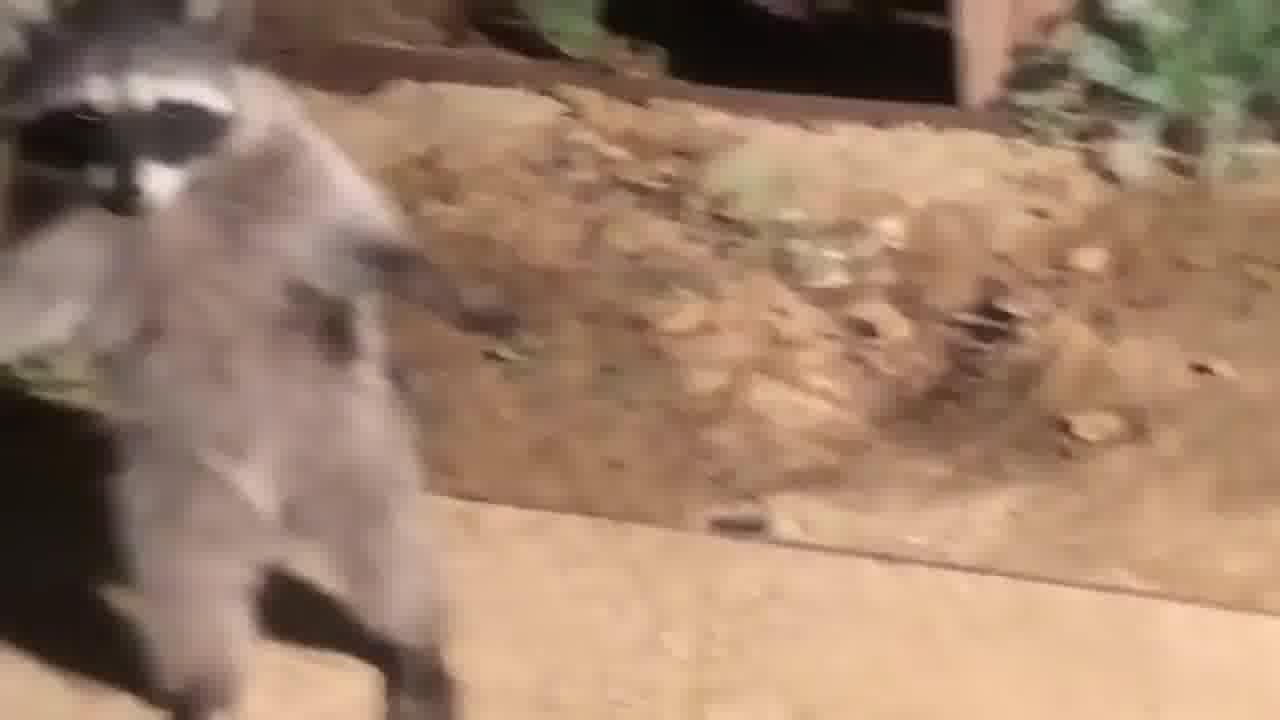raccoon: (0, 0, 533, 720)
